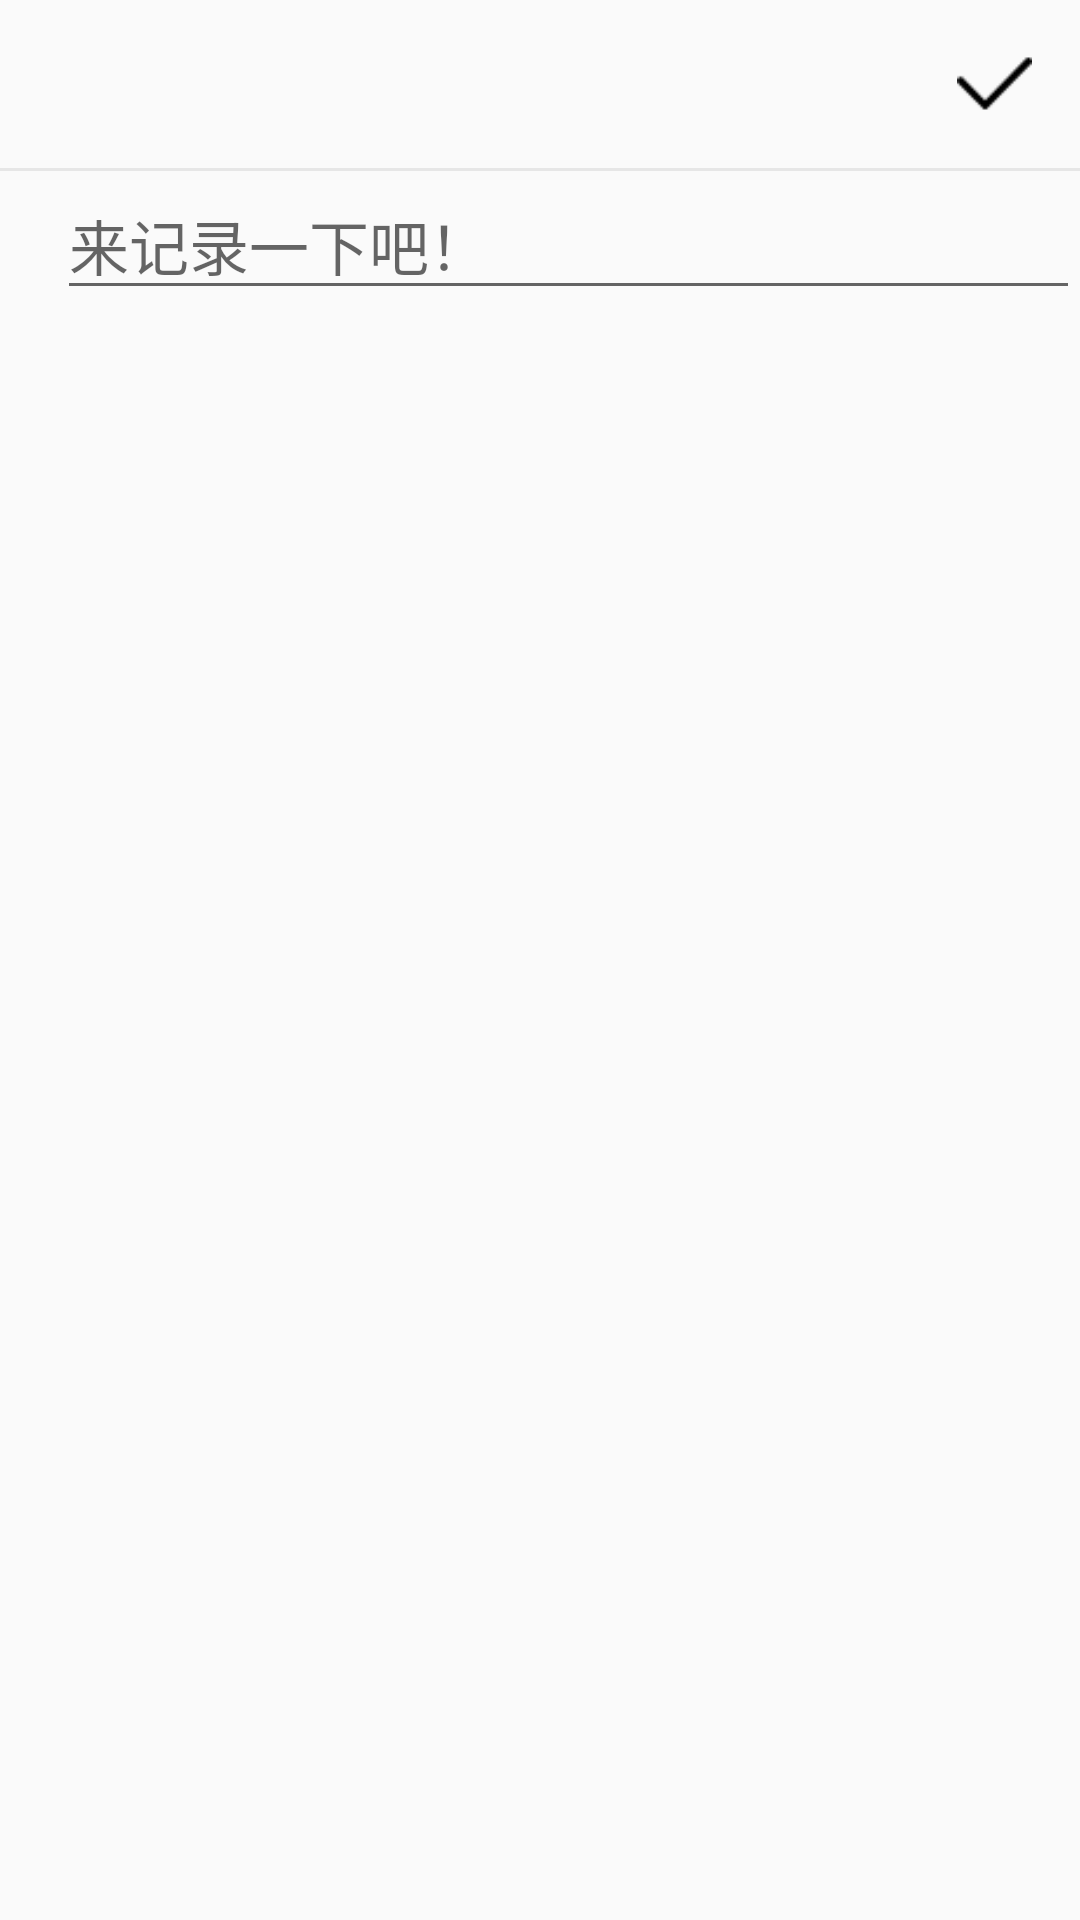

Locate icon controls on the screen. Image size 1080px x 1920px, boxes as bbox(x1, y1, x2, y2).
right: bbox(957, 57, 1032, 110)
